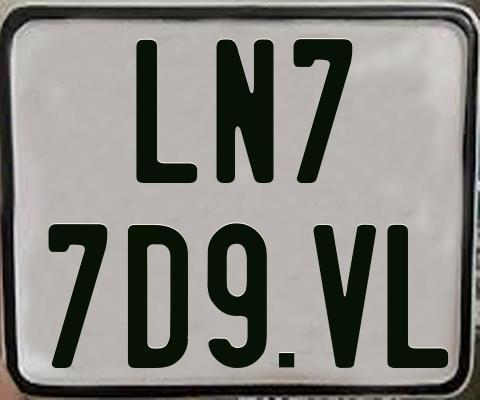7: (292, 36, 357, 183), (45, 224, 109, 371)
9: (207, 223, 267, 374)
D: (128, 224, 191, 373)
L: (136, 38, 201, 181), (386, 223, 447, 369)
N: (213, 38, 274, 186)
V: (312, 223, 381, 370)
